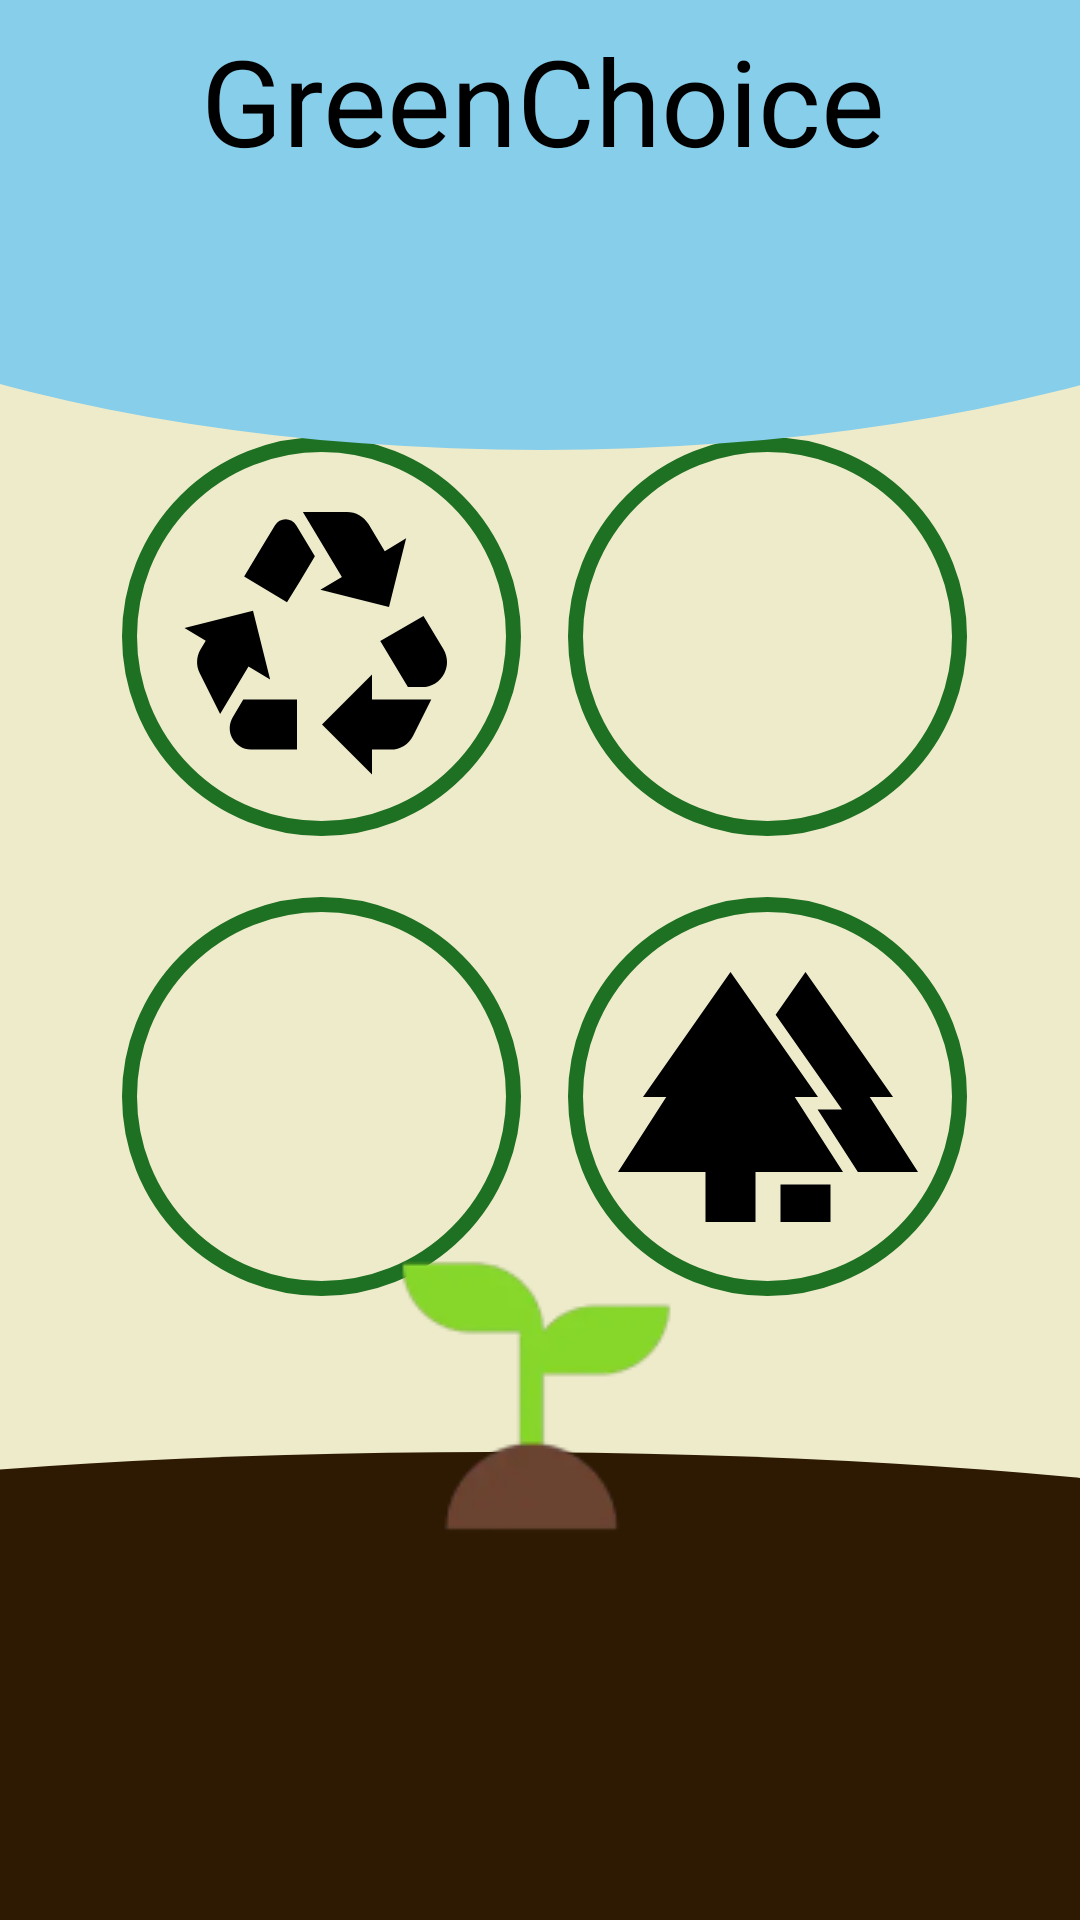

Named icons in this screenshot (1080*1920) and their centers, (x=x, y=y):
recycling: (x=316, y=643)
sapling: (x=538, y=1397)
